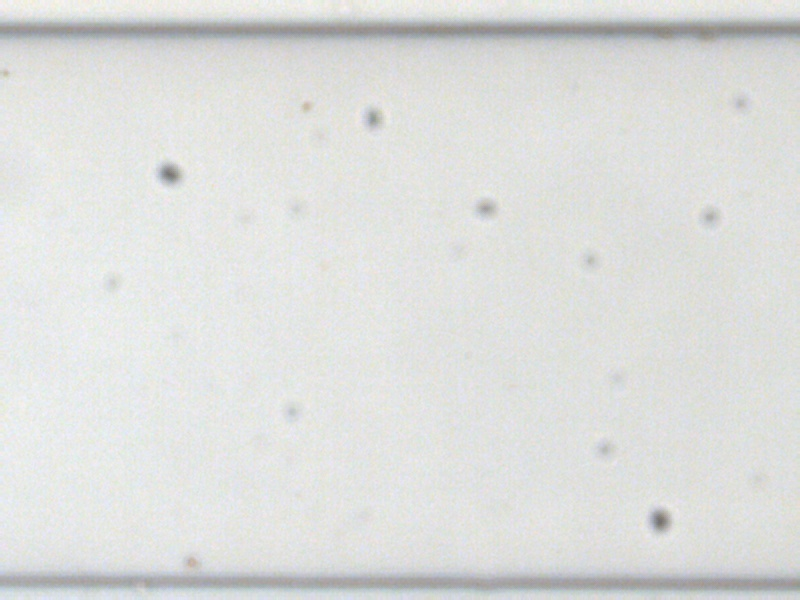Chlorella: (185, 555, 199, 569), (299, 100, 311, 112), (0, 66, 10, 80)
